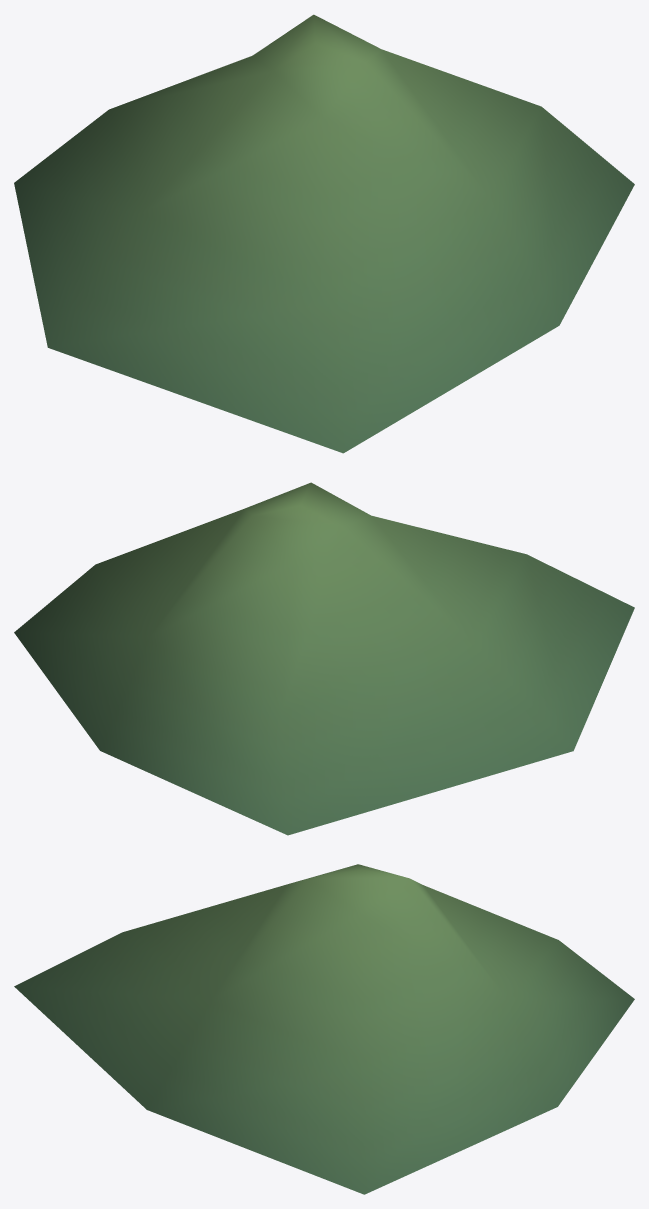
File: Mountain002.glb
3 views of the same model, one above another, from view 1: azimuth 30°, elevation 25°; view 2: azimuth 150°, elevation 25°; view 3: azimuth 270°, elevation 25° (orthographic). The views are drawn at different scales.
Visible parts, largest first — view 1: Mountain002; view 2: Mountain002; view 3: Mountain002.
Part boxes in pixels (x1,y1,x2,y2): Mountain002: (14,14,634,453); Mountain002: (14,482,634,835); Mountain002: (14,864,634,1194).
Bounding box in the file's own units: 950 × 332 × 973.
Materials: 1 (1 with a texture image).
